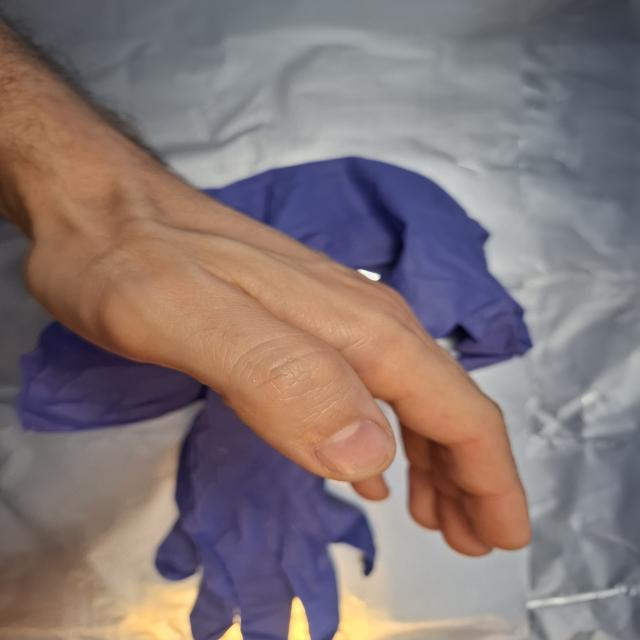glove_off: (19, 163, 536, 560)
